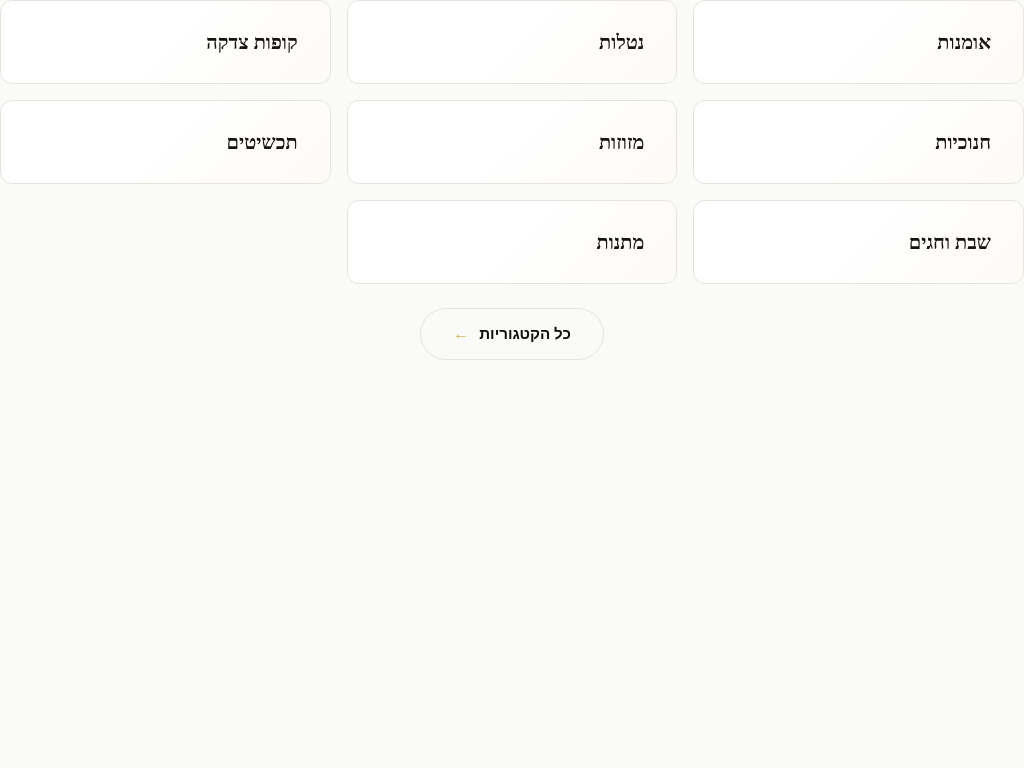
Test: CategoriesSection › opens drawer when "see all" button is clicked
This screenshot has width=1024, height=768.
Click the button "כל הקטגוריות ←": [512, 334] box x1=420 y1=308 x2=604 y2=360
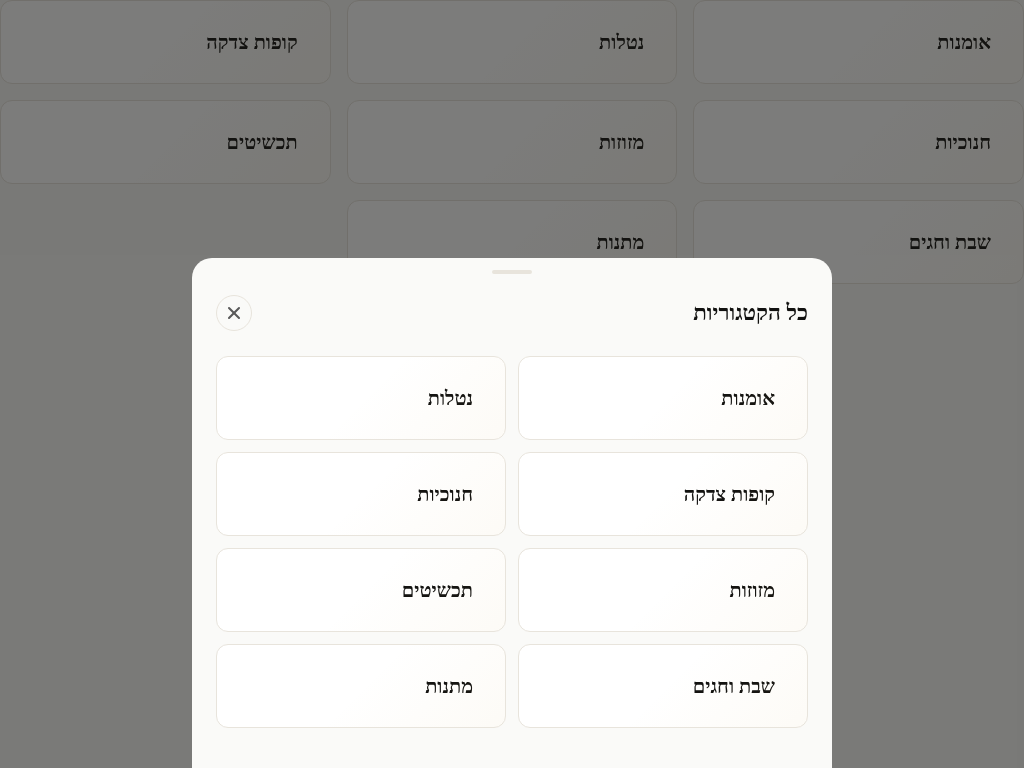
expect the heading "כל הקטגוריות" is shown: met, box x1=693 y1=294 x2=808 y2=332
